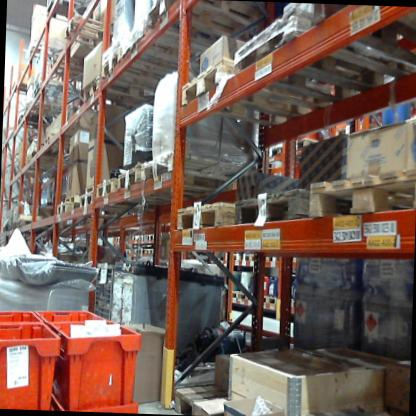pallet: (233, 15, 388, 114), (179, 50, 295, 138), (174, 377, 400, 416), (308, 156, 416, 223), (142, 155, 270, 199), (98, 48, 198, 101), (232, 182, 321, 241), (121, 19, 209, 78), (139, 2, 261, 44), (82, 73, 155, 111), (175, 198, 236, 239), (64, 12, 116, 41), (43, 128, 113, 148), (46, 197, 90, 225), (20, 96, 70, 120), (18, 110, 68, 134), (45, 48, 96, 71), (117, 157, 146, 197), (93, 173, 122, 212), (26, 151, 71, 175), (36, 79, 85, 101), (24, 38, 56, 62), (80, 191, 106, 212), (78, 179, 100, 198), (260, 249, 287, 263), (11, 77, 30, 96), (257, 291, 278, 308), (124, 248, 142, 263), (17, 221, 46, 230), (238, 289, 255, 304), (227, 288, 242, 304), (64, 192, 83, 204), (242, 249, 259, 262), (144, 230, 159, 244), (224, 252, 240, 264), (136, 248, 146, 259), (145, 248, 157, 257), (130, 248, 139, 258), (132, 232, 140, 242), (11, 222, 18, 233), (137, 232, 145, 241), (117, 235, 126, 243)
small_load_carrier: (41, 319, 148, 411), (0, 319, 62, 408), (34, 300, 108, 334), (0, 305, 50, 328)
stillage: (90, 260, 120, 325)
